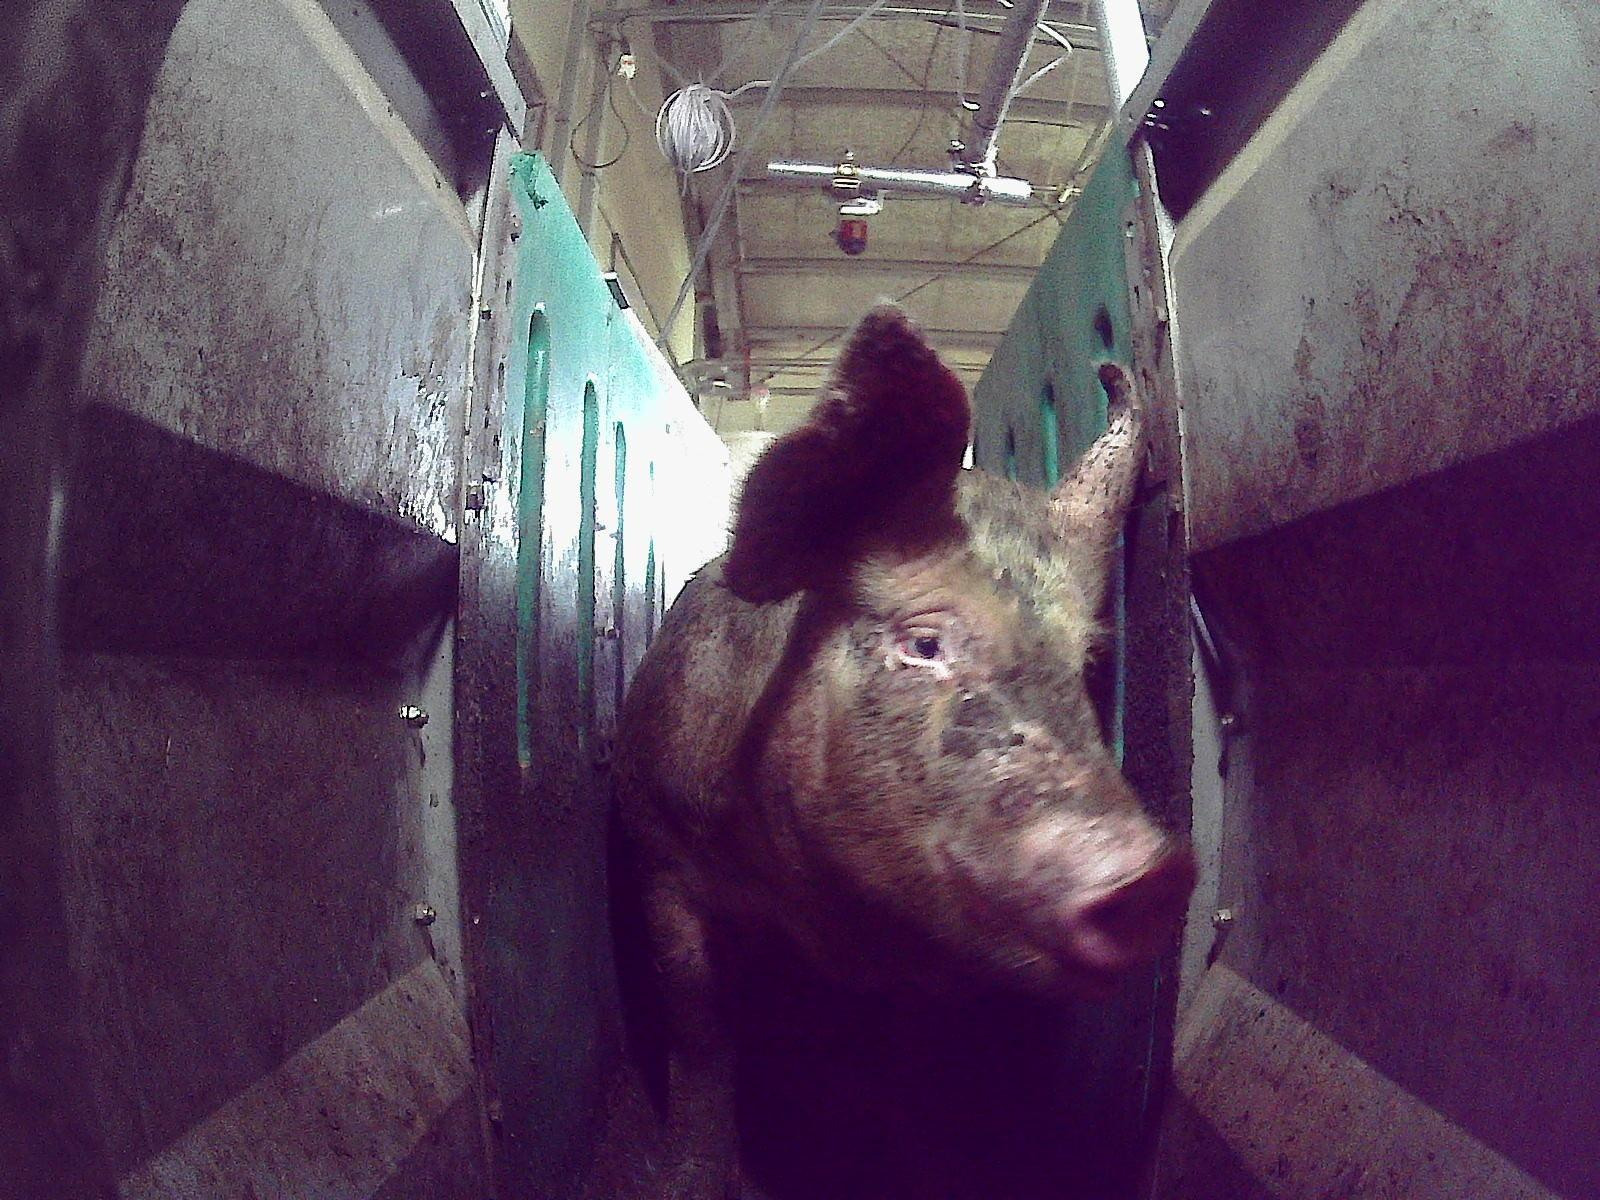Face: (723, 466, 1196, 1007)
